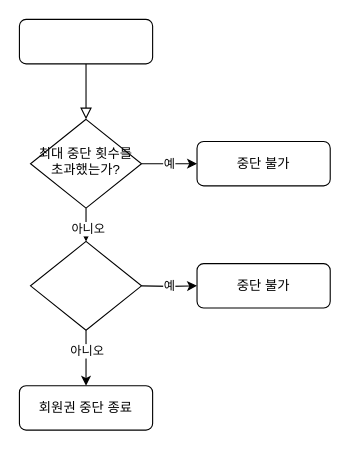
Some shapes in this 350 by 450 pixel diagram are drawn without their labels. The shapes that lost their labels are listed below. From the top down, each one's centre as x and y in pixels, then its label:
At (85,41): "회원권 중단 시작".
At (85,285): "최대 중단 일자를 초과했는가?".
